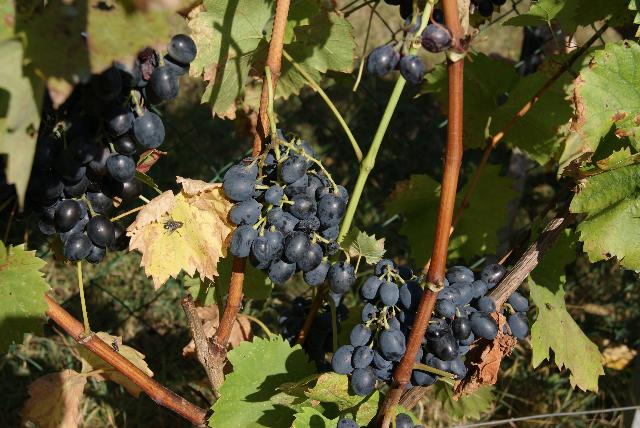grapes: (25, 35, 196, 262), (222, 141, 354, 290), (331, 260, 422, 396), (411, 265, 505, 386)
